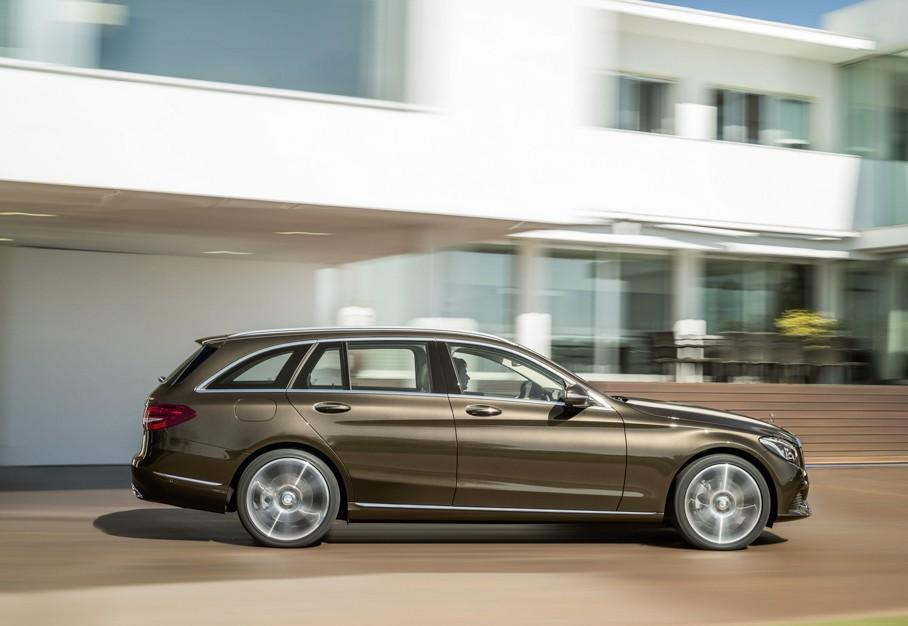Wagon: (132, 326, 812, 550)
